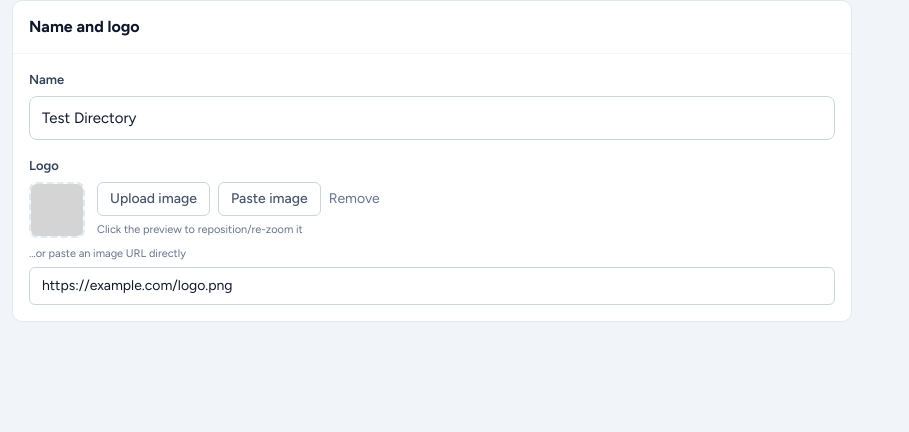
Scenario: CommunityEditor › saves the name and logo alone, for this community
This screenshot has width=909, height=432.
Expected: the heading "Name and logo" is shown, [29,17,140,36]
Replace the text in the field labelled "Name" with "New Directory". click: (432, 118)
box: [29,96,835,140]
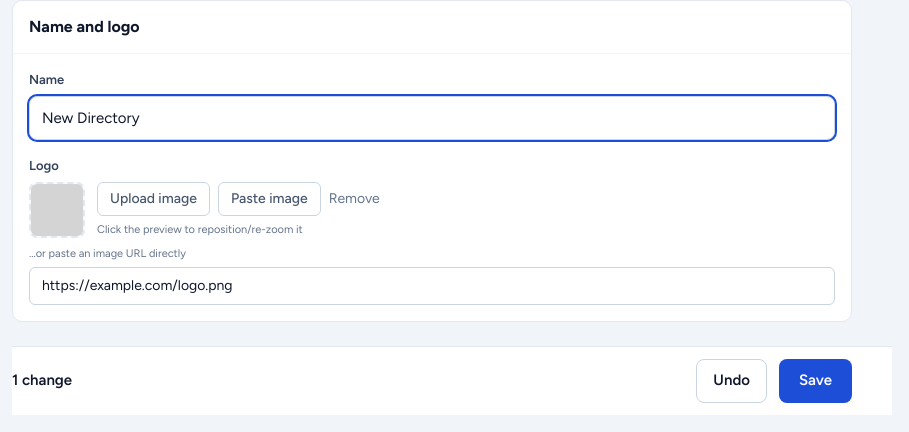
Click the button "Save". click: click(816, 380)
box: [779,358,852,402]
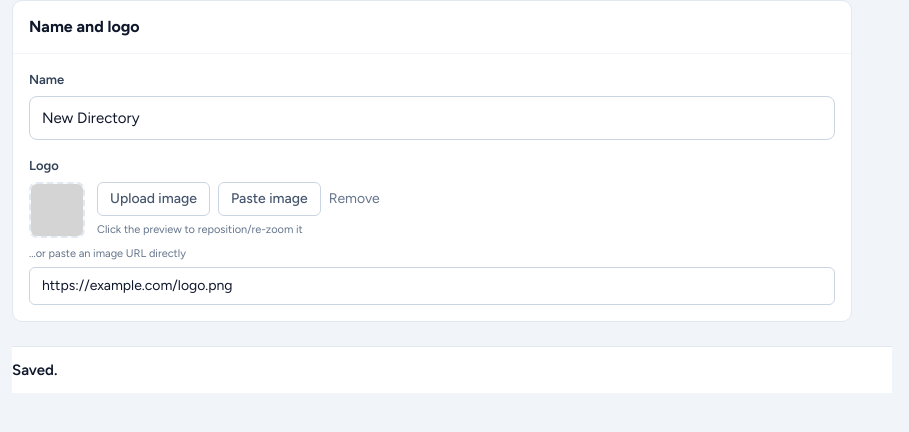
Expected: the text "Saved." is shown, [12,360,57,378]
